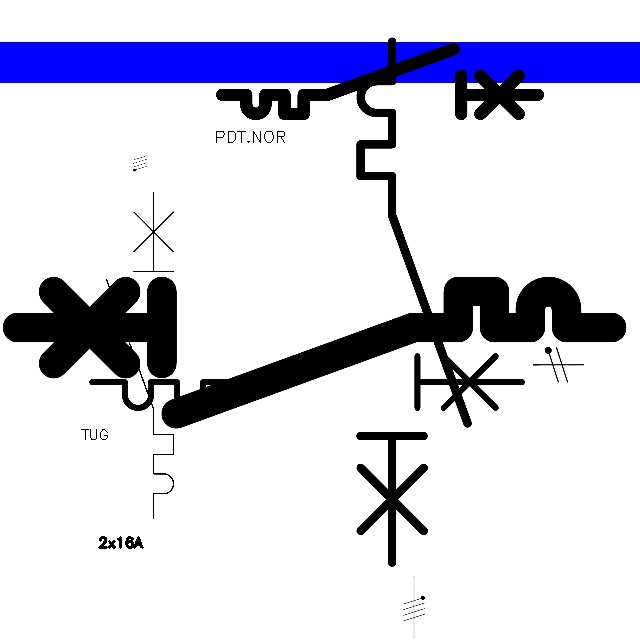interruptor_termomagnetico: (2, 276, 627, 429), (347, 28, 481, 576), (81, 309, 533, 419), (98, 183, 182, 526), (214, 41, 546, 122)
